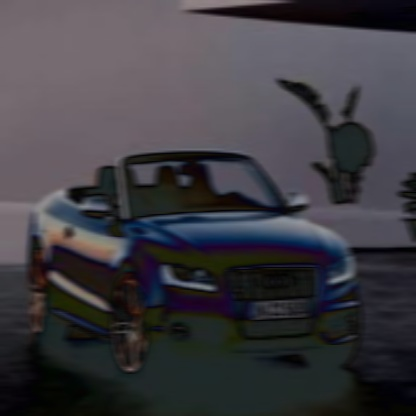Vehicle: (27, 152, 365, 376)
